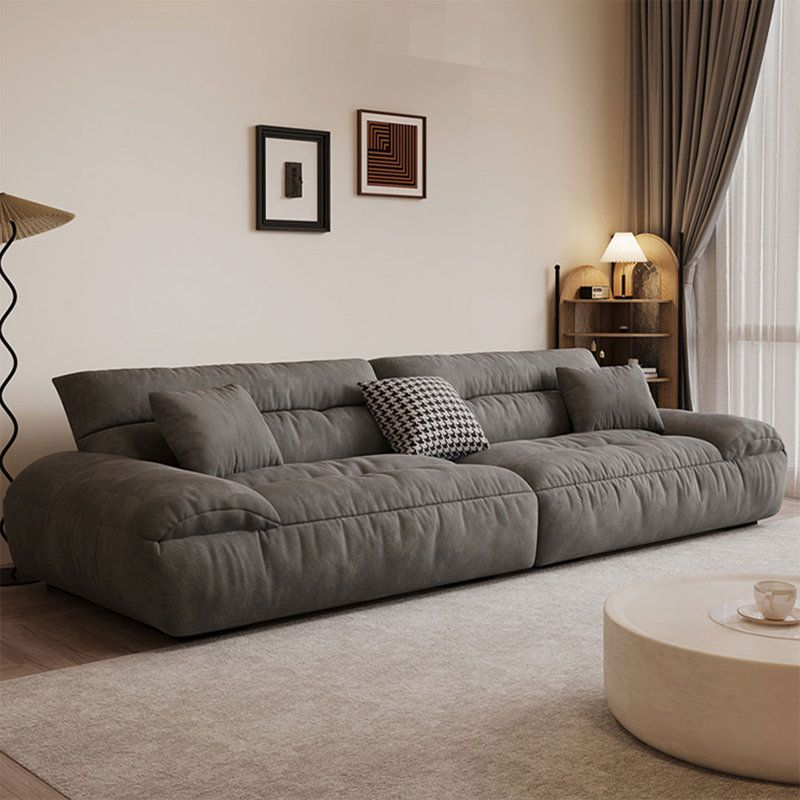3seatersofa: (6, 348, 786, 635)
backrest: (55, 349, 593, 465)
leftarmrest: (662, 411, 786, 521)
pillow: (150, 386, 277, 475), (359, 376, 488, 459), (558, 367, 662, 432)
rightarmrest: (7, 452, 277, 626)
seat: (234, 431, 750, 614)
